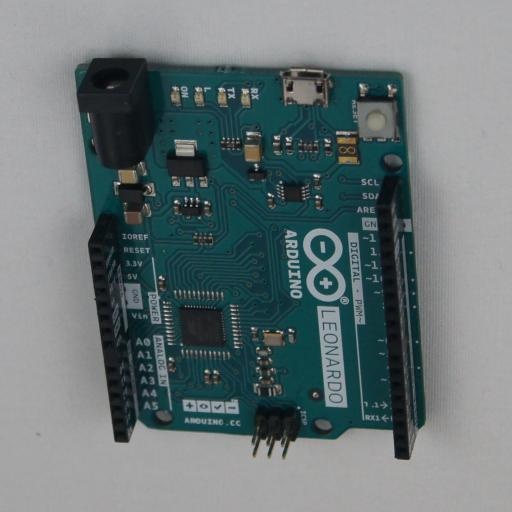Arduino Leonardo: (74, 54, 426, 460)
